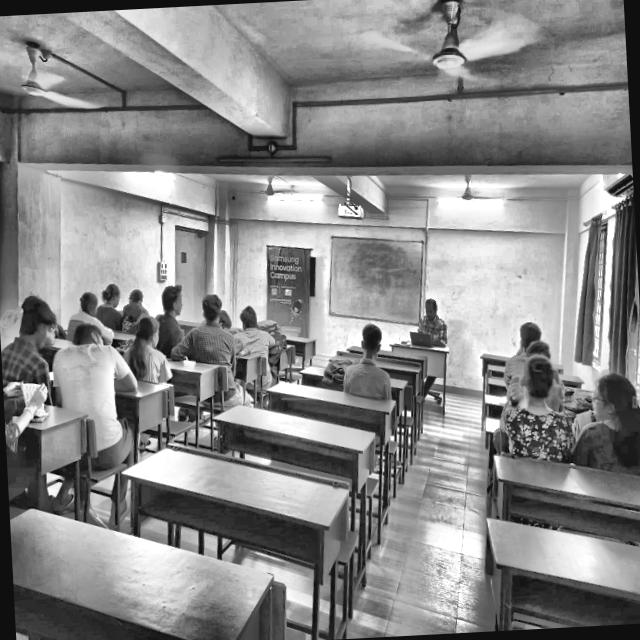Focus: (112, 255, 235, 352), (328, 314, 388, 404), (519, 312, 550, 372)
Not Focus: (505, 338, 640, 449), (22, 290, 130, 412), (242, 297, 284, 366), (410, 291, 450, 362)
